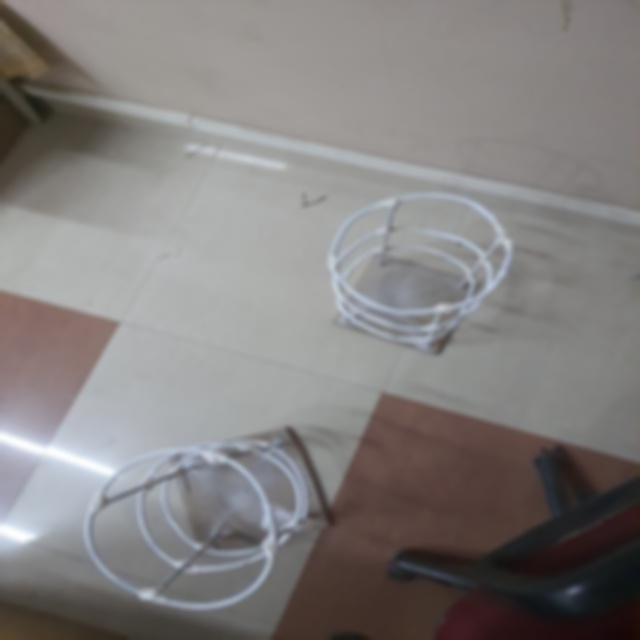silo: (74, 426, 340, 610), (312, 188, 512, 354)
